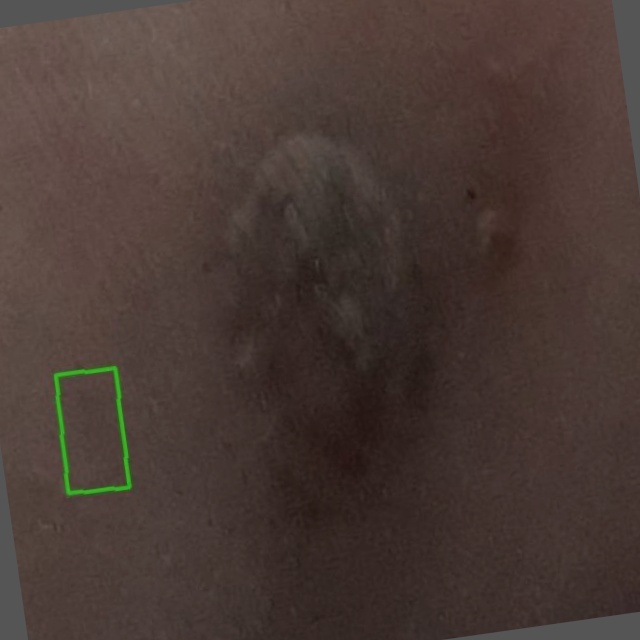Eczema: (54, 368, 128, 494)
